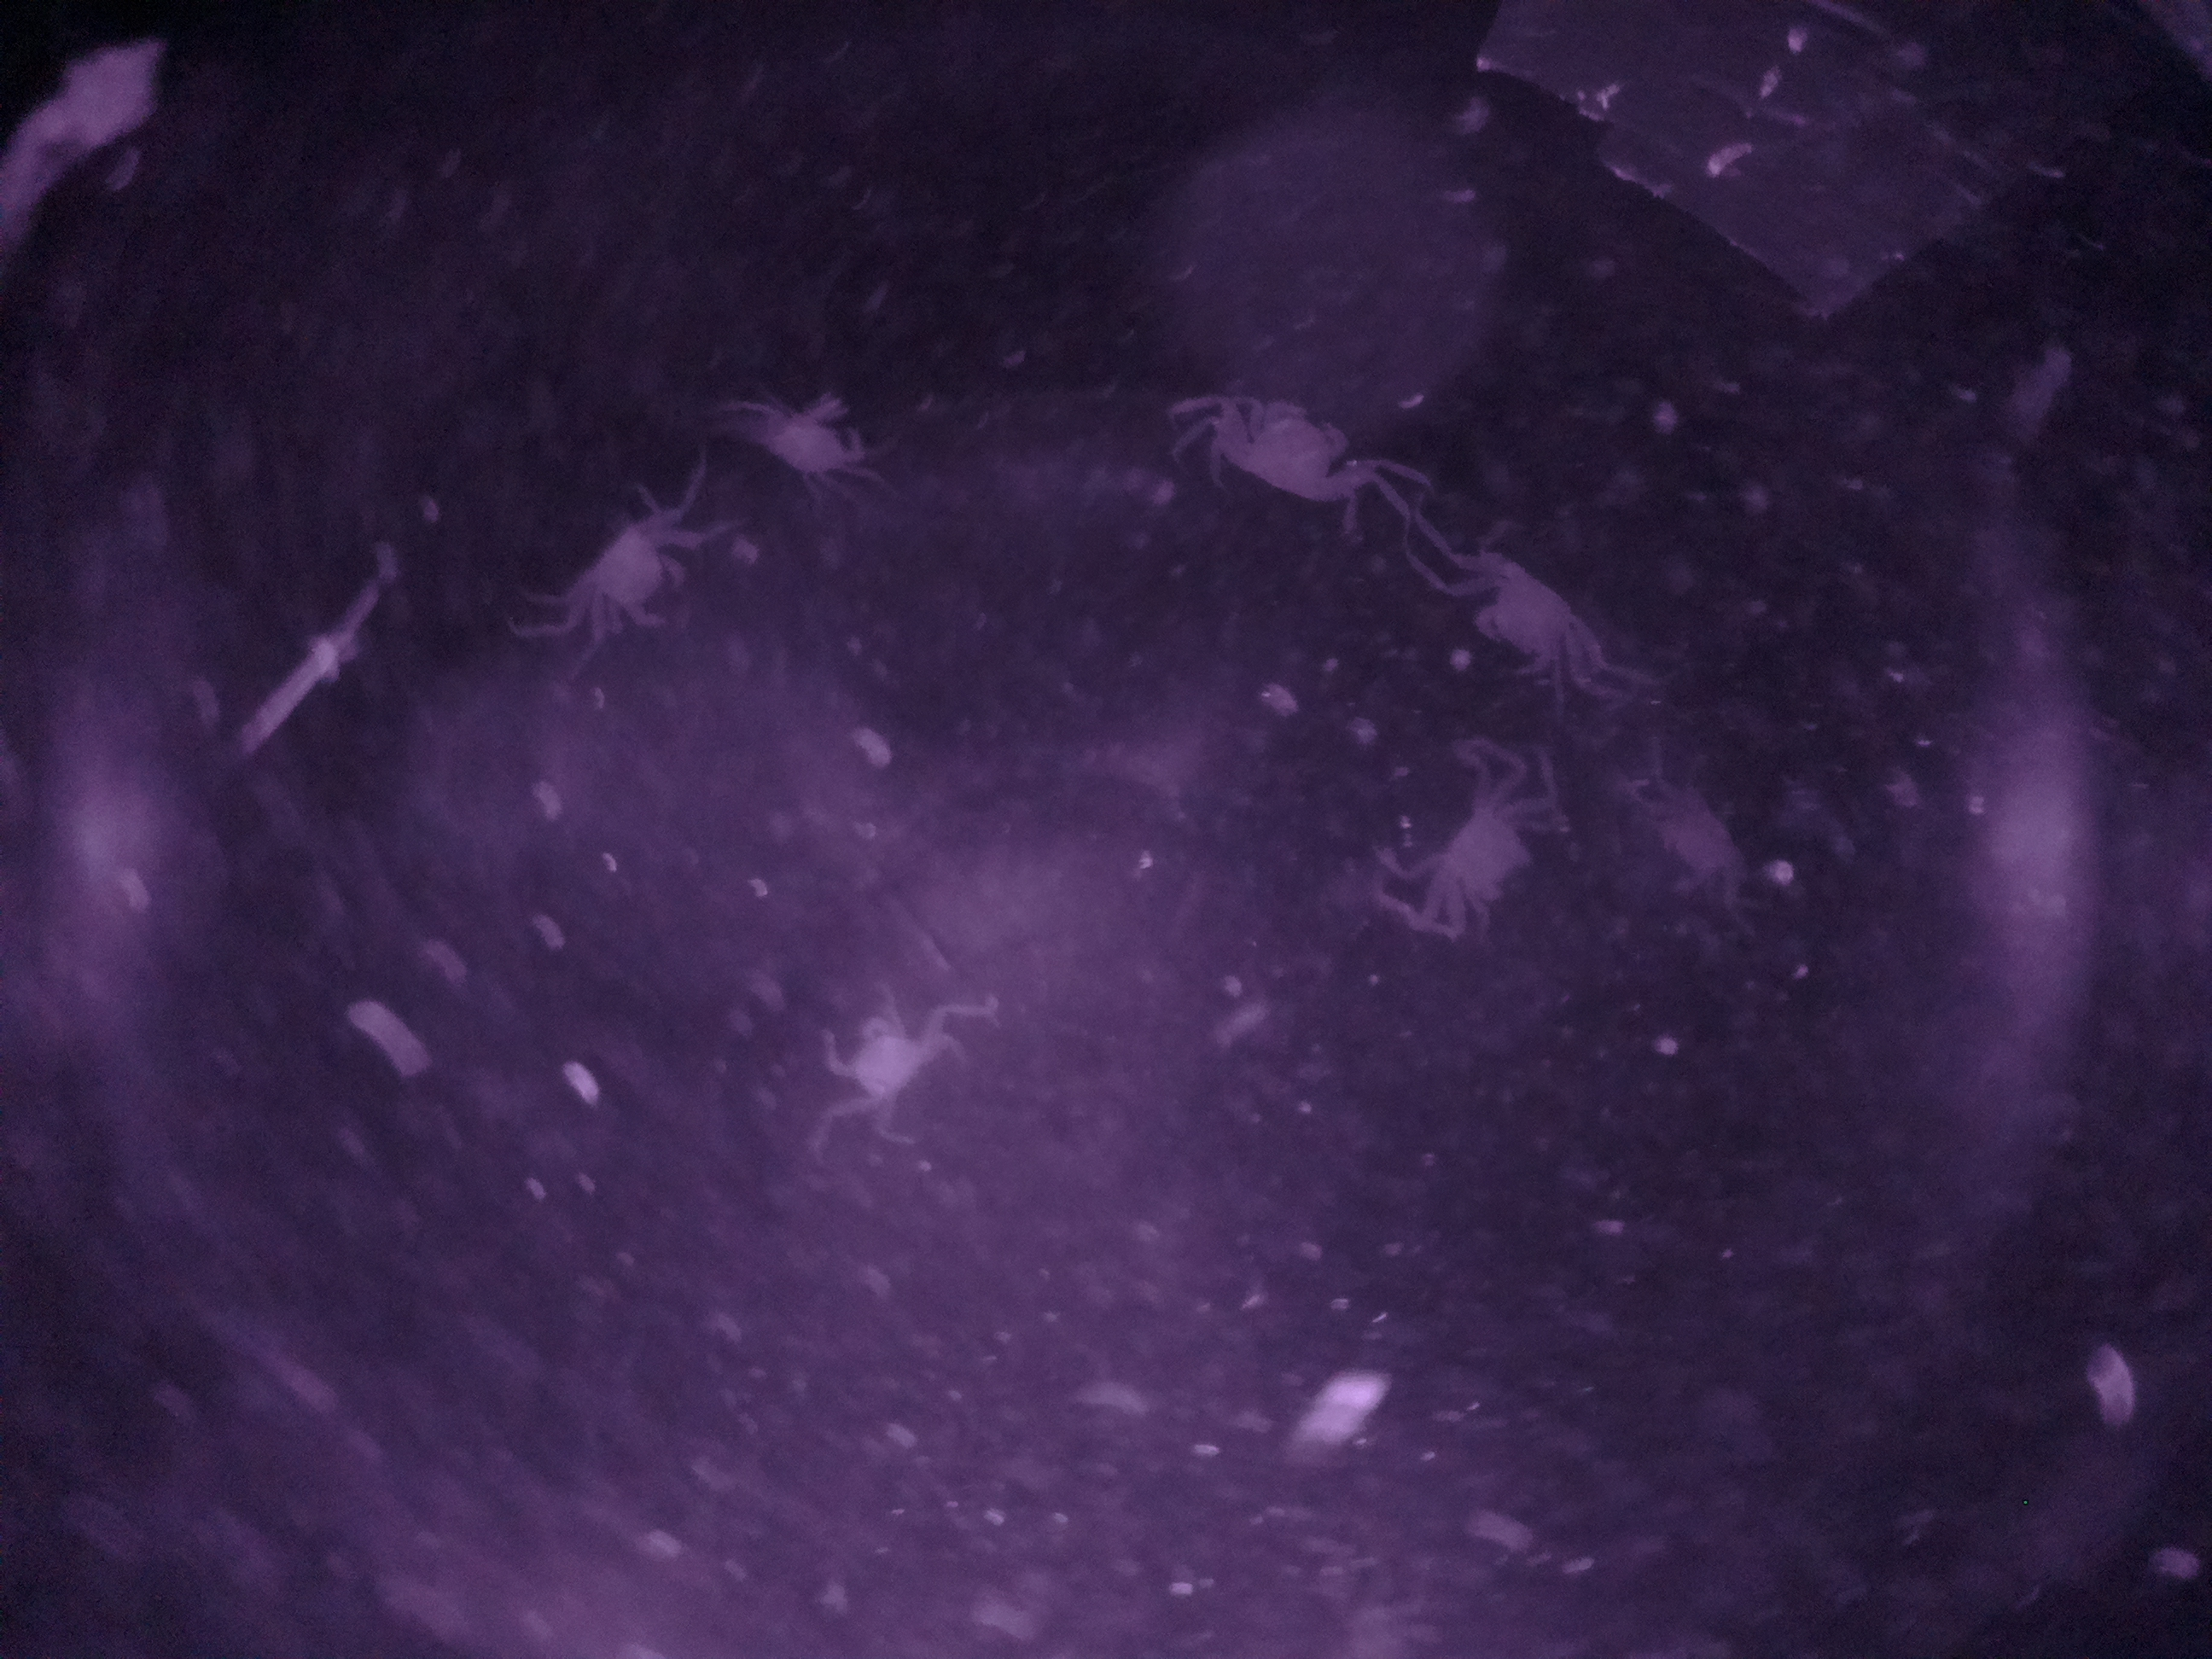Crab: (1193, 380, 1385, 521), (1440, 544, 1609, 702), (571, 504, 702, 647)
